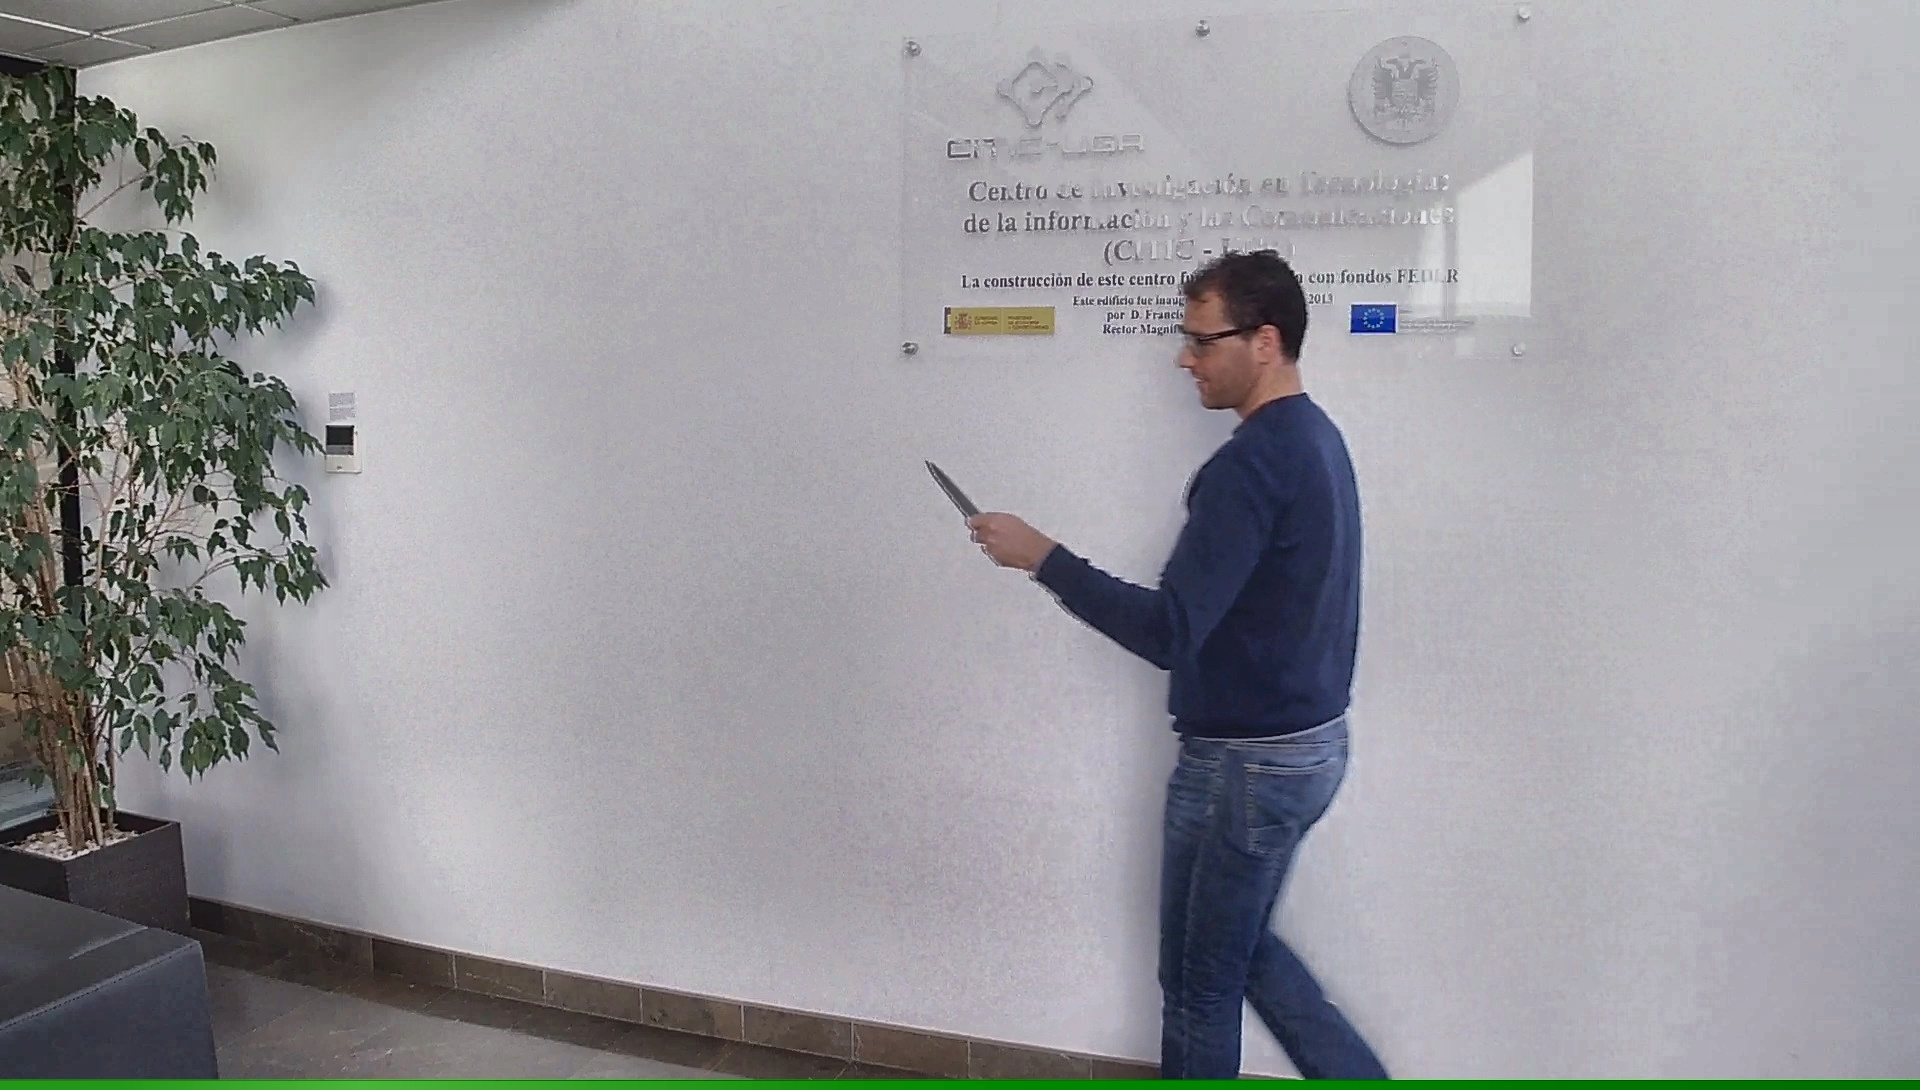knife: (916, 452, 1007, 554)
